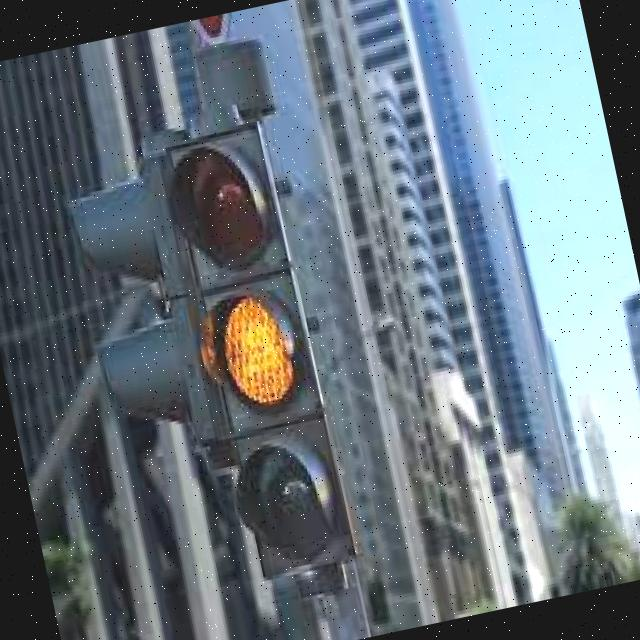yellow_light: (163, 127, 359, 582)
